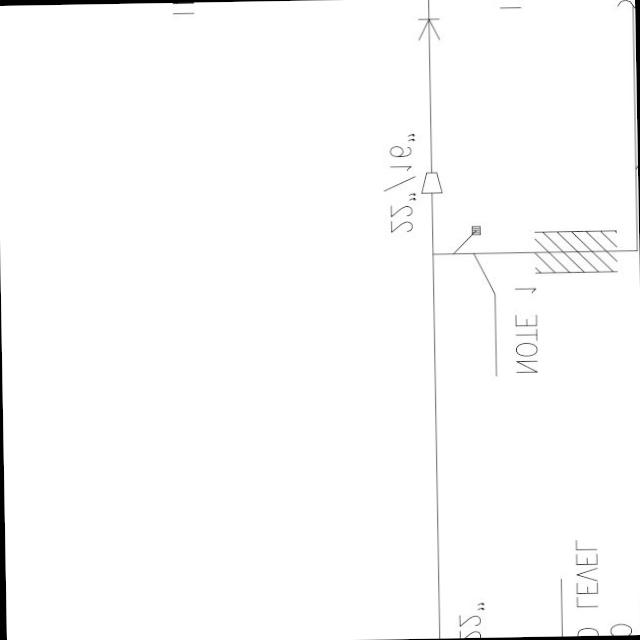SP: (416, 163, 446, 202)
